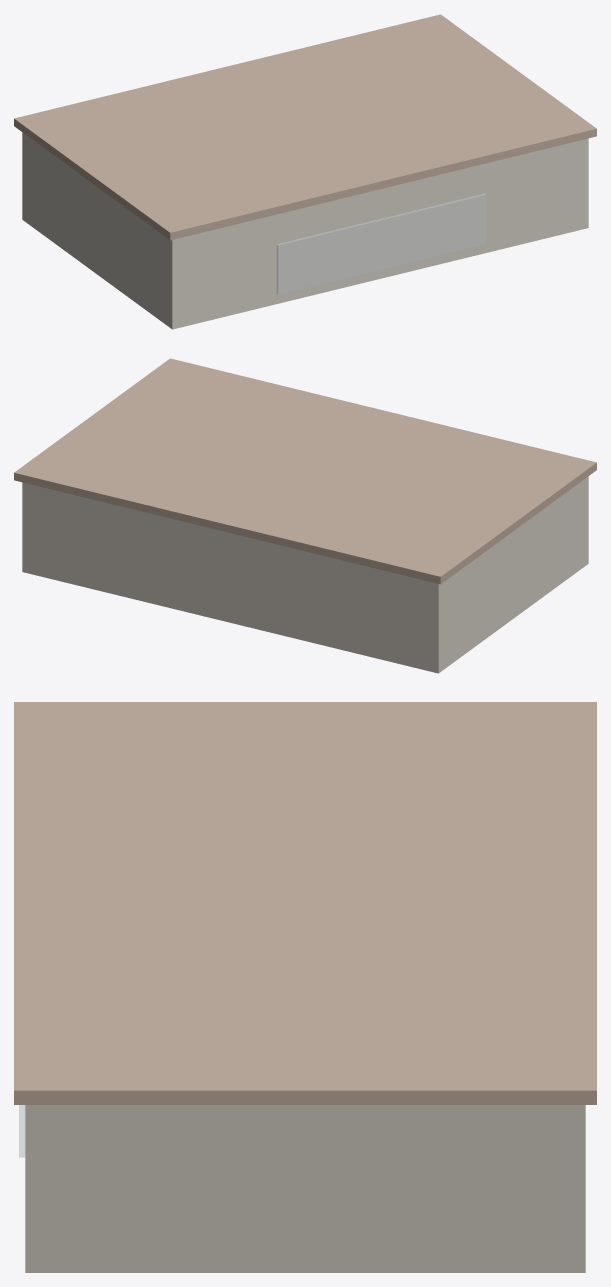
Rendered from clubhouse.glb.
3 views of the same model, one above another, from view 1: azimuth 30°, elevation 25°; view 2: azimuth 150°, elevation 25°; view 3: azimuth 270°, elevation 25° (orthographic). The views are drawn at different scales.
Visible parts, largest first — view 1: spatial-root; view 2: spatial-root; view 3: spatial-root.
Part boxes in pixels (bbox=[...]): spatial-root: bbox=[14, 14, 596, 329]; spatial-root: bbox=[14, 358, 596, 673]; spatial-root: bbox=[14, 702, 596, 1272].
Bounding box in the file's own units: 16.4 × 3.68 × 10.4.
